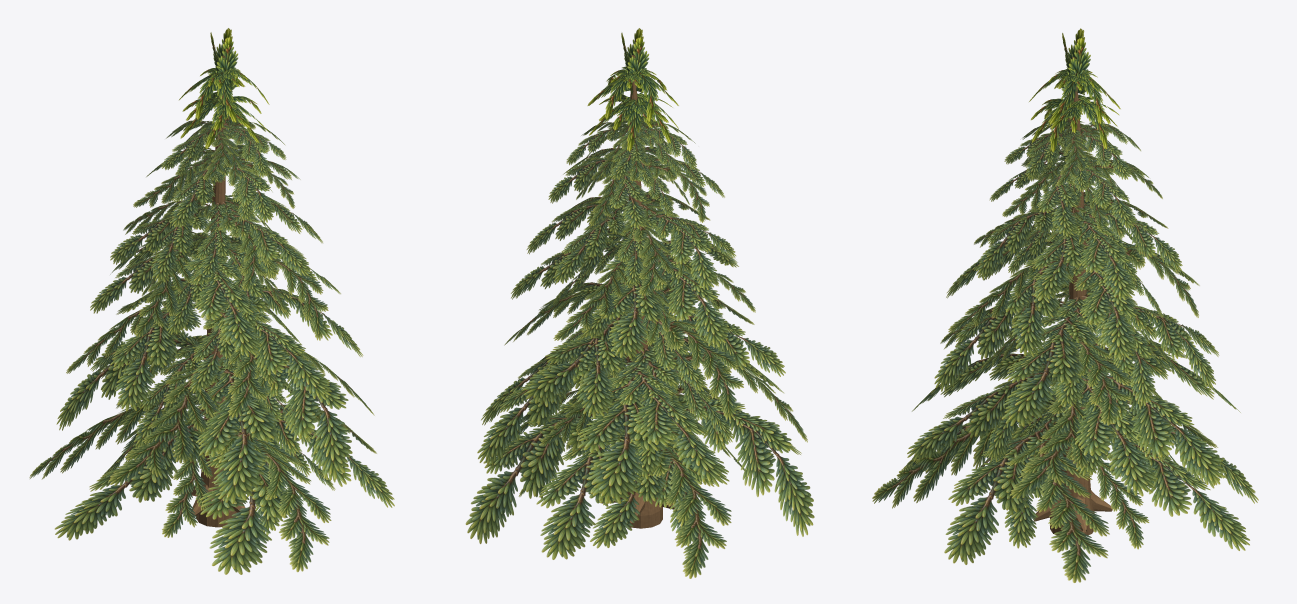
Rendered from fir_soft_v3.glb.
3 renders of one model, left to right at view 1: azimuth 30°, elevation 25°; view 2: azimuth 150°, elevation 25°; view 3: azimuth 270°, elevation 25°, orthographic. The views are drawn at different scales.
Visible parts, largest first — view 1: fir_soft_v3; view 2: fir_soft_v3; view 3: fir_soft_v3.
Boxes of the visible parts, left/top/right/bottom form: fir_soft_v3: left=29, top=28, right=394, bottom=574; fir_soft_v3: left=465, top=28, right=814, bottom=578; fir_soft_v3: left=872, top=28, right=1258, bottom=582.
Bounding box in the file's own units: 4.07 × 5.71 × 4.23.
Materials: 4 (4 with a texture image).
